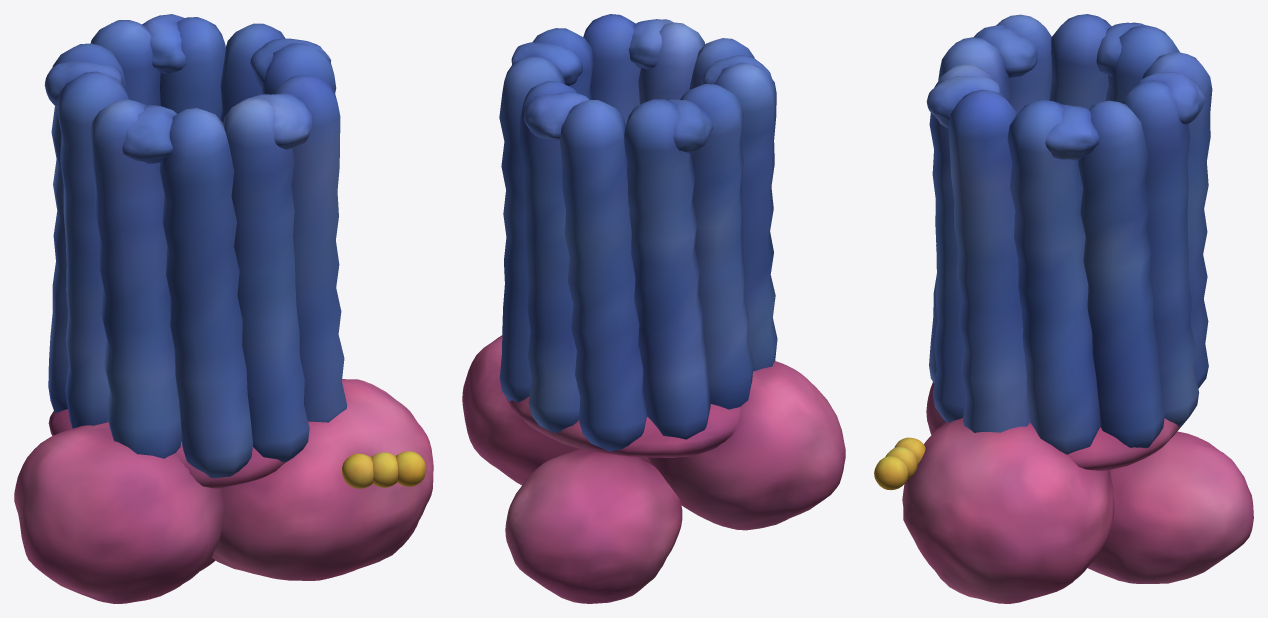
The model's file is pump-protein.glb.
The picture shows the model from 3 angles, left to right: view 1: azimuth 30°, elevation 25°; view 2: azimuth 150°, elevation 25°; view 3: azimuth 270°, elevation 25°; orthographic projection. The views are drawn at different scales.
Visible parts, largest first — view 1: pump-protein-transmembrane, pump-protein-lobes, pump-protein-atp-site; view 2: pump-protein-transmembrane, pump-protein-lobes; view 3: pump-protein-transmembrane, pump-protein-lobes, pump-protein-atp-site.
Part boxes in pixels (x1=…): pump-protein-transmembrane: x1=44, y1=14, x2=347, y2=478; pump-protein-lobes: x1=14, y1=379, x2=433, y2=603; pump-protein-atp-site: x1=342, y1=451, x2=426, y2=488; pump-protein-transmembrane: x1=499, y1=14, x2=777, y2=451; pump-protein-lobes: x1=462, y1=335, x2=845, y2=603; pump-protein-transmembrane: x1=926, y1=14, x2=1212, y2=454; pump-protein-lobes: x1=902, y1=382, x2=1253, y2=603; pump-protein-atp-site: x1=874, y1=437, x2=925, y2=490.
Size of what is drawn, in the model's own units: 1.4 by 1.84 by 1.22.
